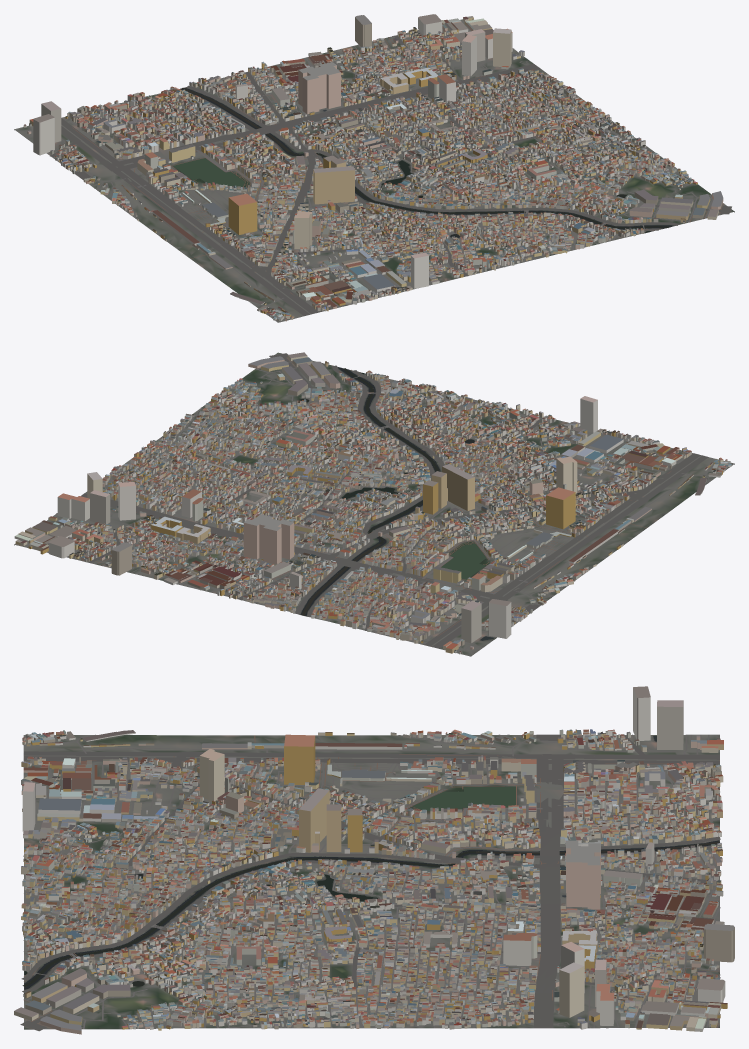
3 renders of one model, top to bottom at view 1: azimuth 30°, elevation 25°; view 2: azimuth 150°, elevation 25°; view 3: azimuth 270°, elevation 25°, orthographic. The views are drawn at different scales.
Parts seen in each view (by area): view 1: buildings, ground, roads, water; view 2: buildings, ground, roads, water; view 3: buildings, ground, roads, water.
Boxes of the visible parts, bbox=[...] form: buildings: bbox=[23, 14, 723, 321]; ground: bbox=[14, 19, 734, 322]; roads: bbox=[18, 22, 731, 320]; water: bbox=[173, 87, 673, 237]; buildings: bbox=[14, 352, 731, 654]; ground: bbox=[14, 352, 734, 656]; roads: bbox=[15, 353, 732, 653]; water: bbox=[299, 367, 493, 640]; buildings: bbox=[14, 686, 734, 1034]; ground: bbox=[23, 734, 719, 1029]; roads: bbox=[20, 734, 720, 1031]; water: bbox=[22, 736, 719, 989].
Bounding box in the file's own units: 1450 × 105 × 1452.
